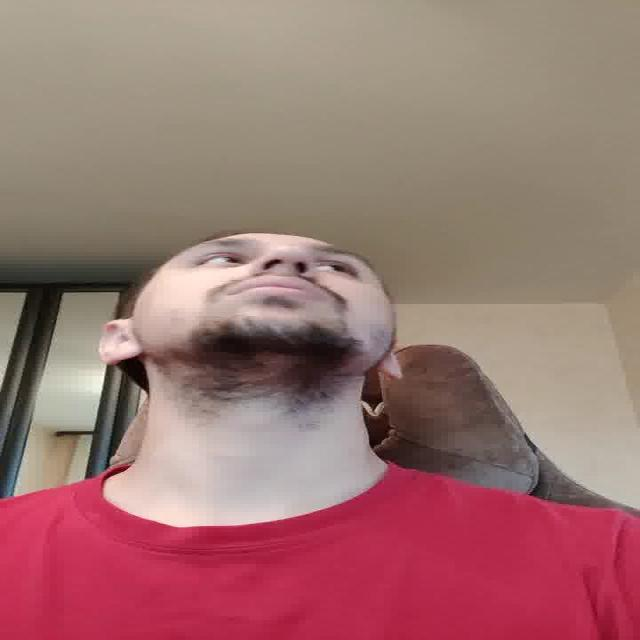earlobe: (104, 348, 147, 366), (376, 358, 406, 378)
eye: (320, 262, 359, 279), (200, 253, 252, 265)
nose: (253, 262, 316, 280)
wholeear: (100, 320, 146, 366)
